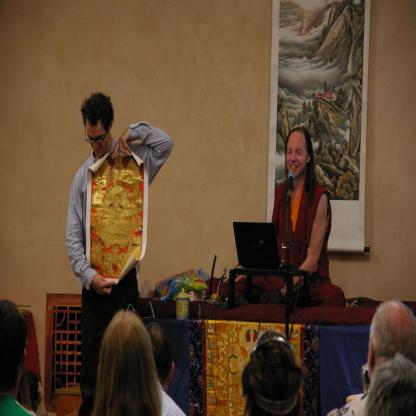board: (232, 224, 294, 275)
